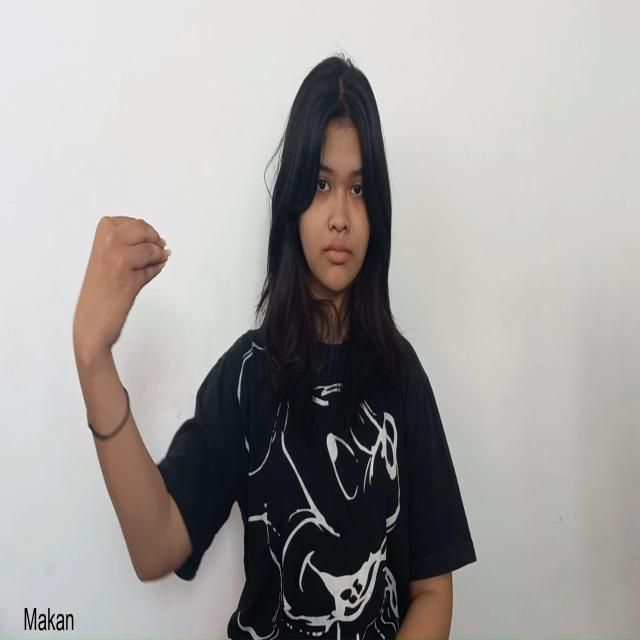Makan -BISINDO-: (70, 212, 172, 390)
